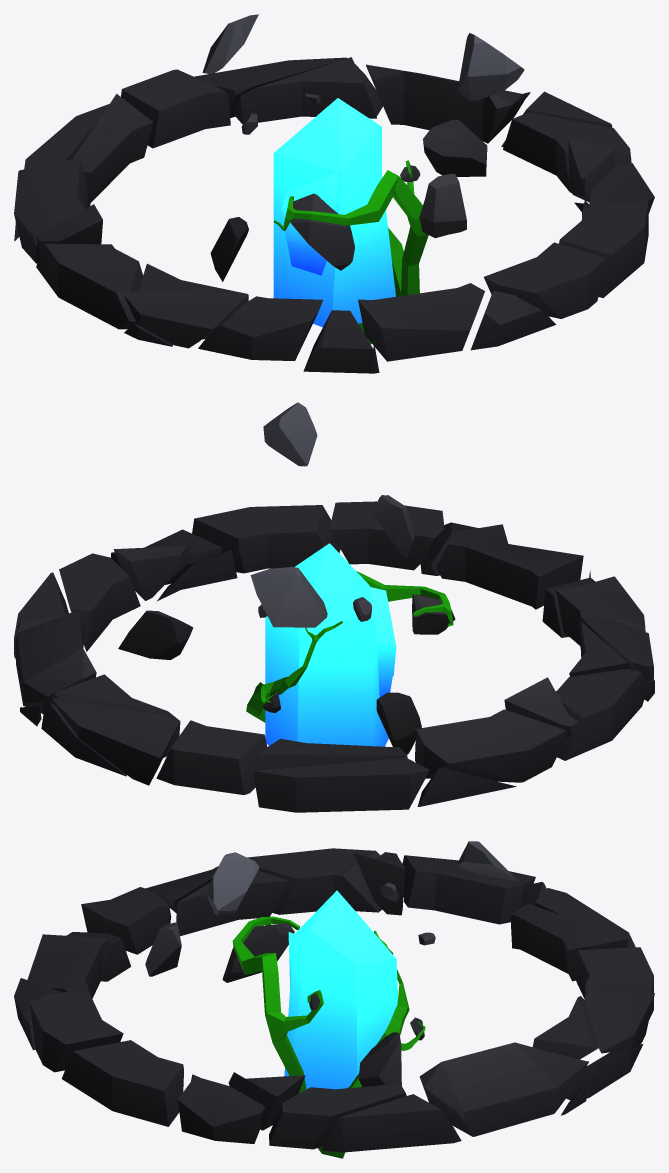
File: Prop_Rift.fbx
The picture shows the model from 3 angles, top to bottom: view 1: azimuth 30°, elevation 25°; view 2: azimuth 150°, elevation 25°; view 3: azimuth 270°, elevation 25°; orthographic projection.
Visible parts, largest first — view 1: Plane; view 2: Plane; view 3: Plane.
Part boxes in pixels (left/top/right/bottom): Plane: left=14, top=14, right=654, bottom=373; Plane: left=14, top=402, right=654, bottom=812; Plane: left=14, top=841, right=654, bottom=1158.
Size of the model in its own units: 213 by 127 by 215.
